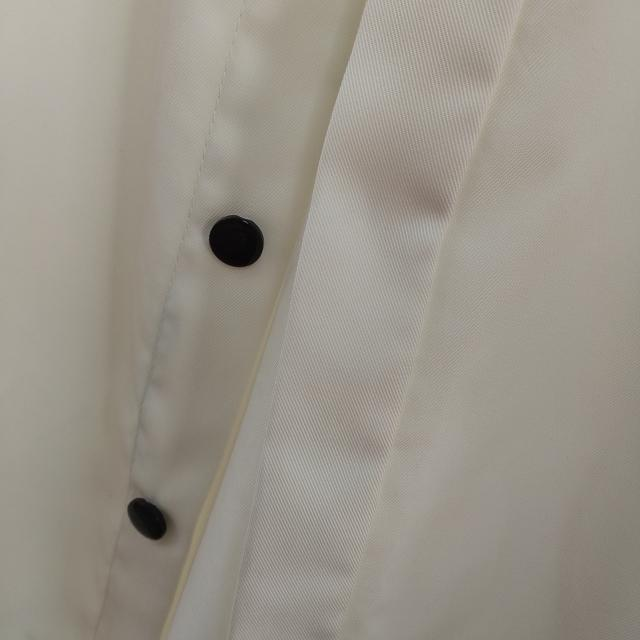education_male_uniform: (81, 139, 595, 640)
